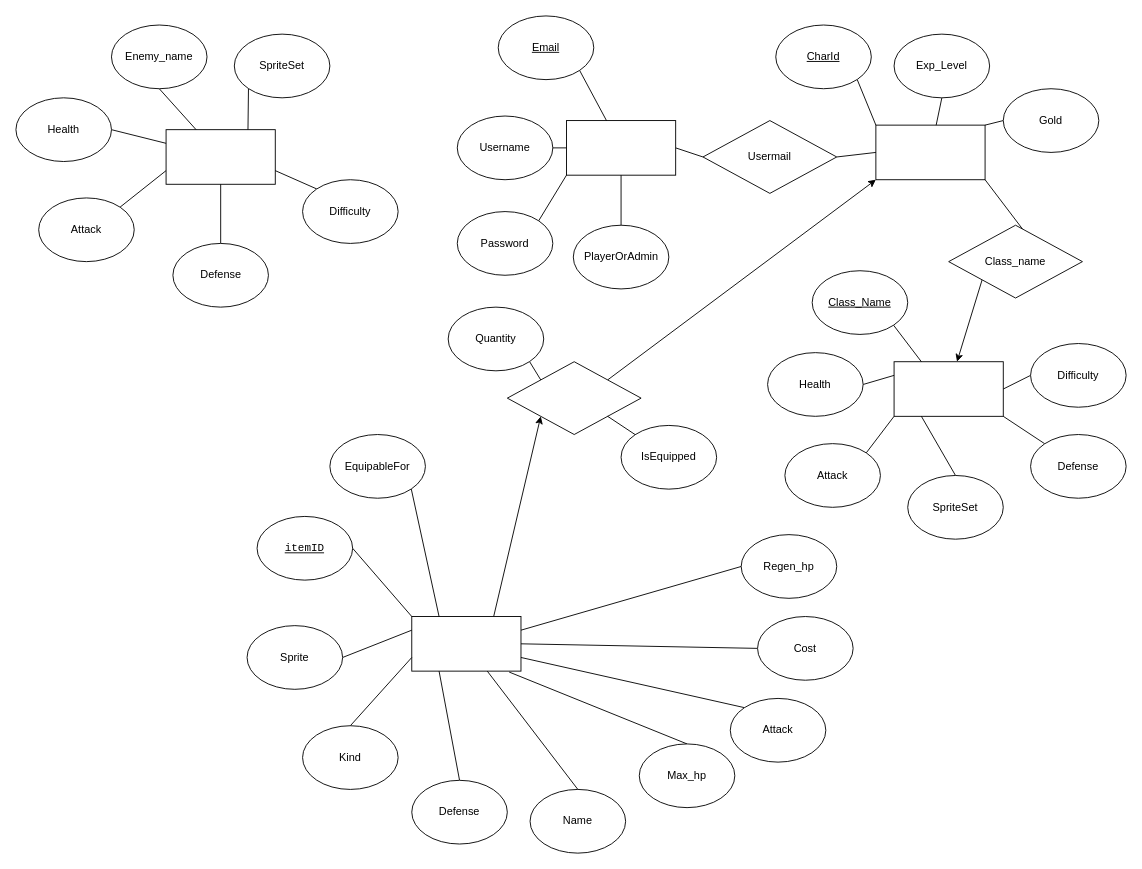
Some shapes in this 1142 by 869 pixel diagram are drawn without their labels. The shapes that lost their labels are listed below. From the top down, each one's box as (x1, y1, x2, y2) in pixels, then its label:
(165, 129, 275, 184): Enemies
(566, 120, 676, 175): Users
(875, 124, 985, 180): Characters
(506, 361, 641, 435): Equipment
(893, 361, 1003, 416): Classes
(411, 616, 521, 671): Items
